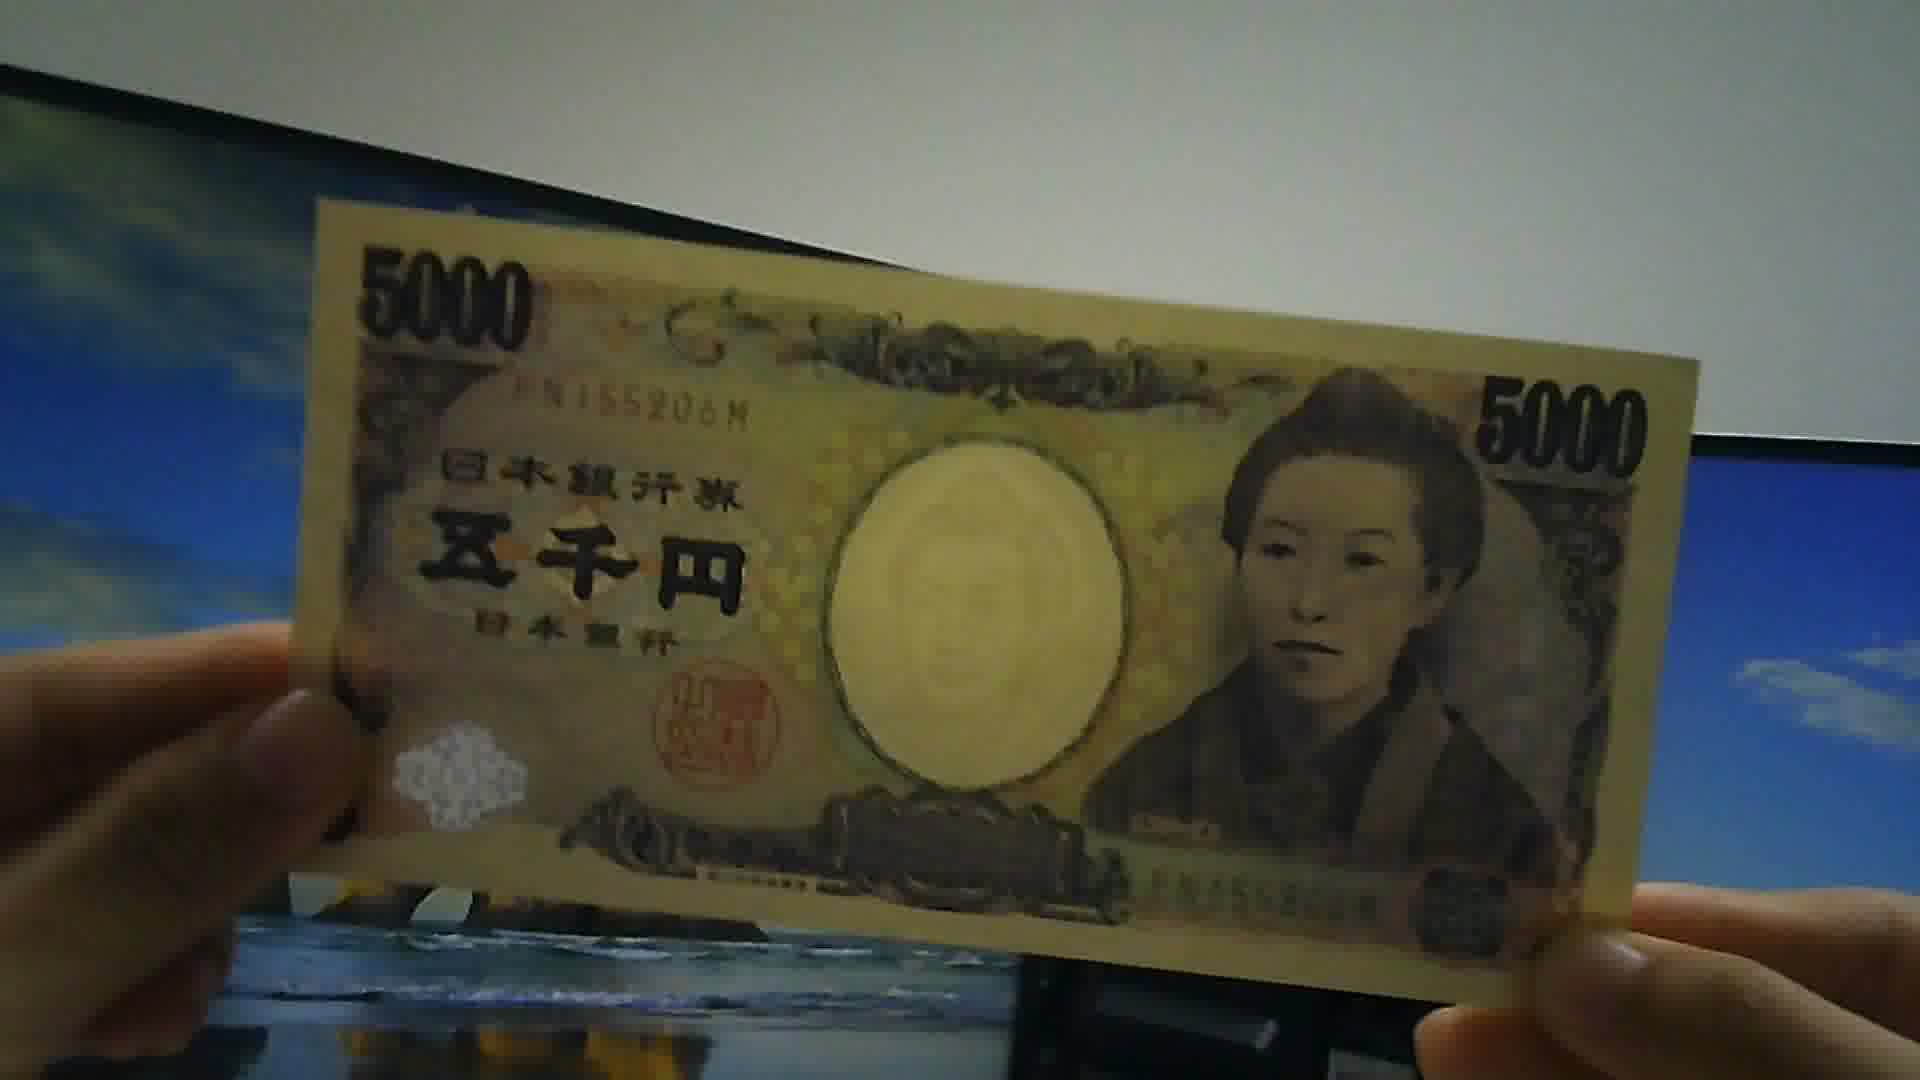5,000 Yen: (266, 187, 1662, 1001)
